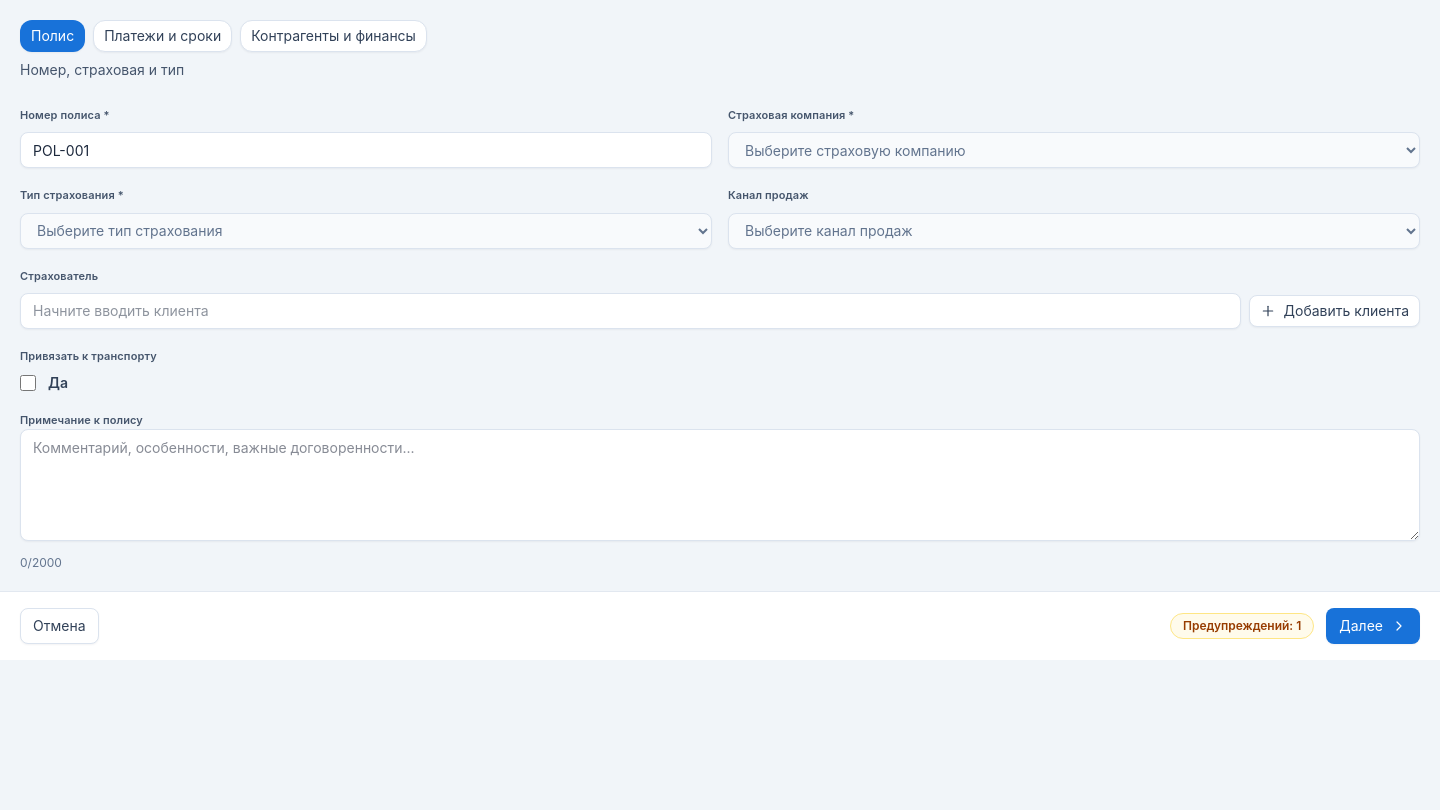
AddPolicyForm › auto-adds executor expense in create form prefill drafts without touching edit form behavior
Click the button "Контрагенты и финансы": click(334, 36) [240,20,427,52]
(page scrolled)
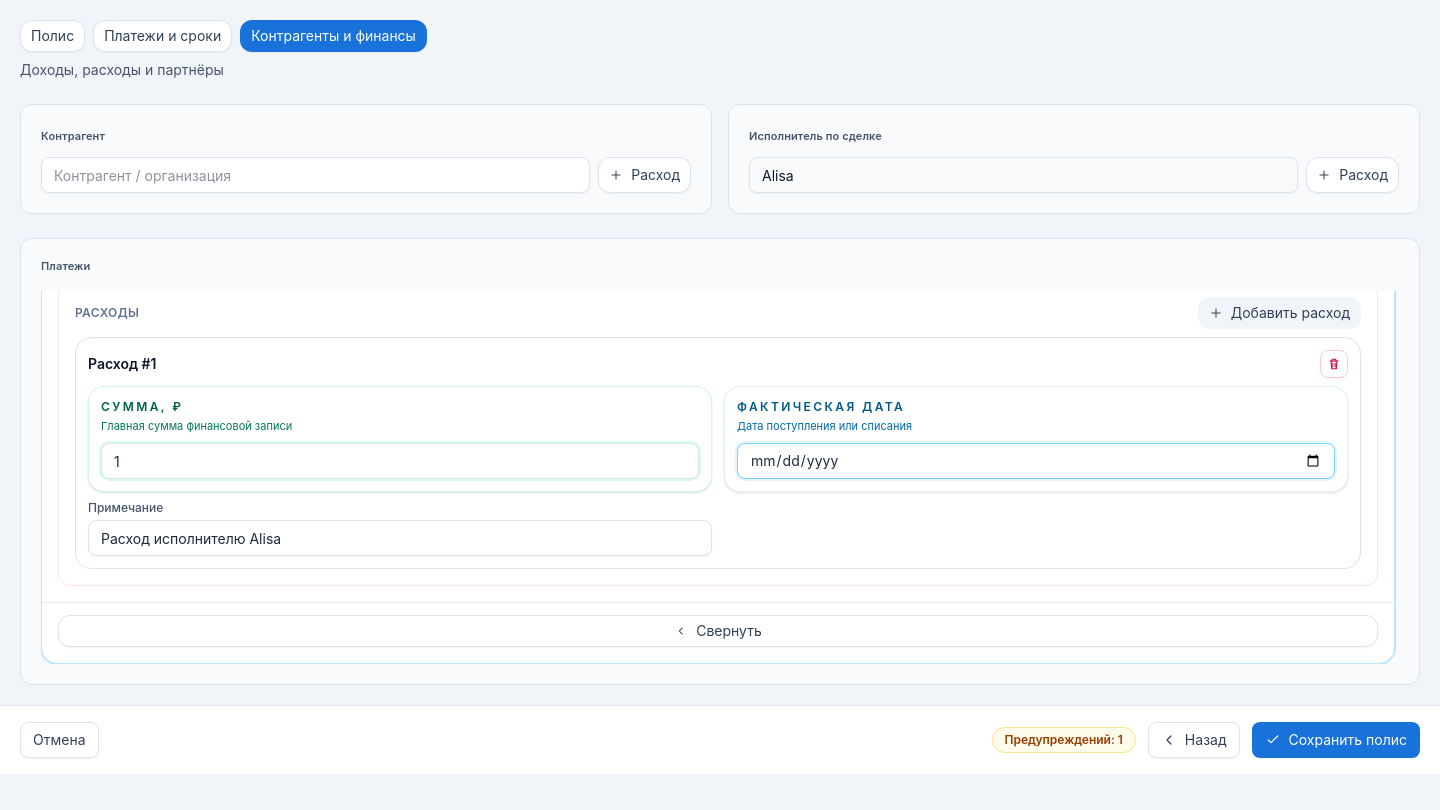
Now the field showing "Расход исполнителю Alisa" below "Примечание" is shown, box [88,520,712,556]
